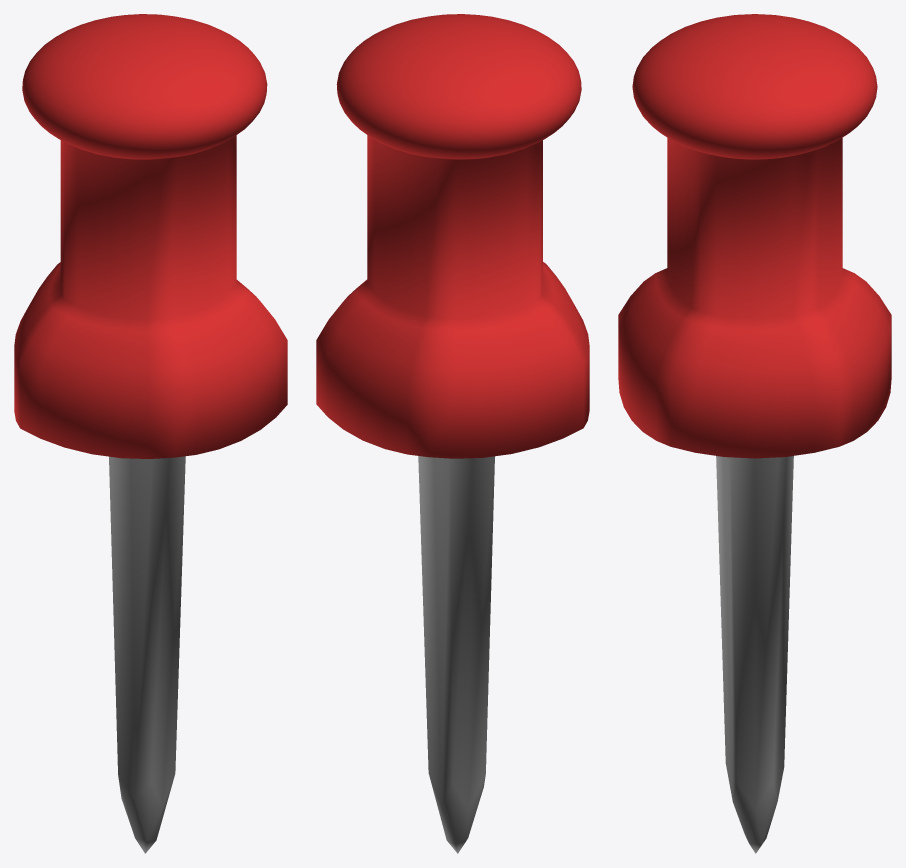
File: Pin.fbx
3 views of the same model, side by side, from view 1: azimuth 30°, elevation 25°; view 2: azimuth 150°, elevation 25°; view 3: azimuth 270°, elevation 25° (orthographic).
Visible parts, largest first — view 1: Pin; view 2: Pin; view 3: Pin.
Boxes of the visible parts, x1,y1,x2,y2 form: Pin: (14, 14, 287, 853); Pin: (316, 14, 589, 853); Pin: (618, 14, 891, 853).
Size of the model in its own units: 223 by 736 by 223.
Materials: 1 (1 with a texture image).
